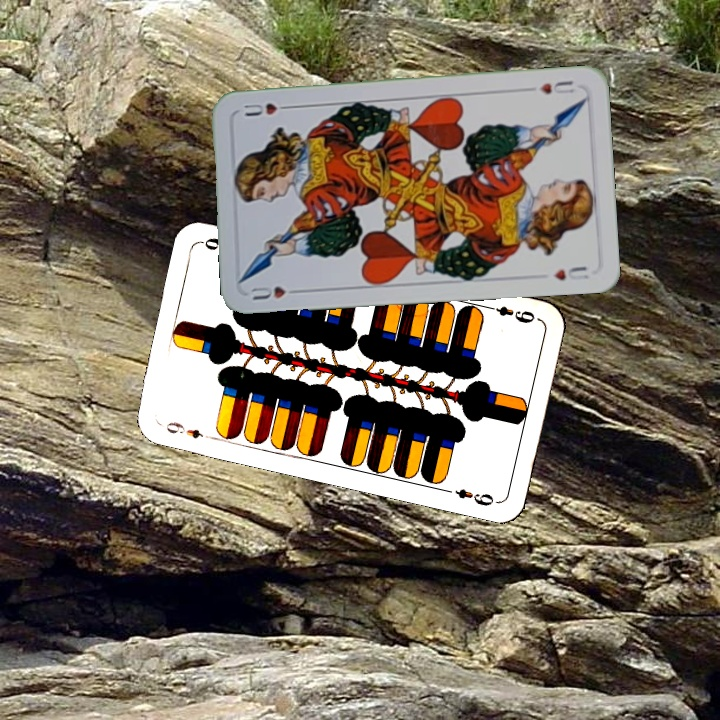E9: (482, 301, 538, 326), (161, 417, 206, 441)
HU: (247, 282, 305, 302), (535, 77, 577, 97)
